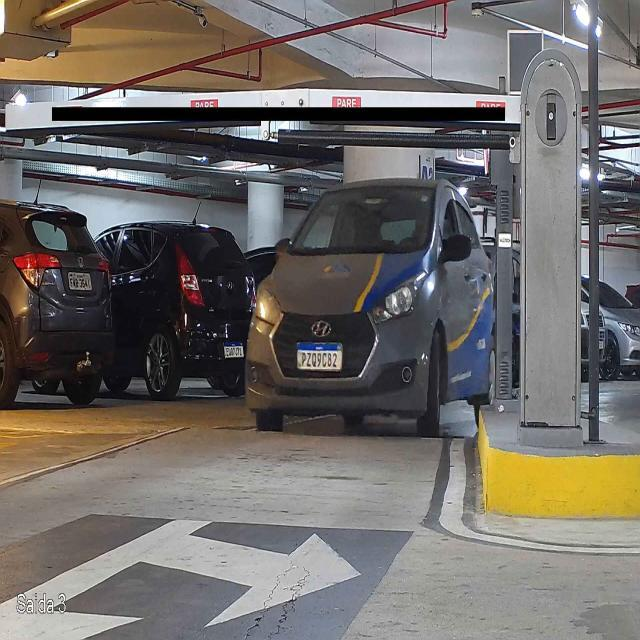mercosul_plate: (296, 341, 344, 372)
